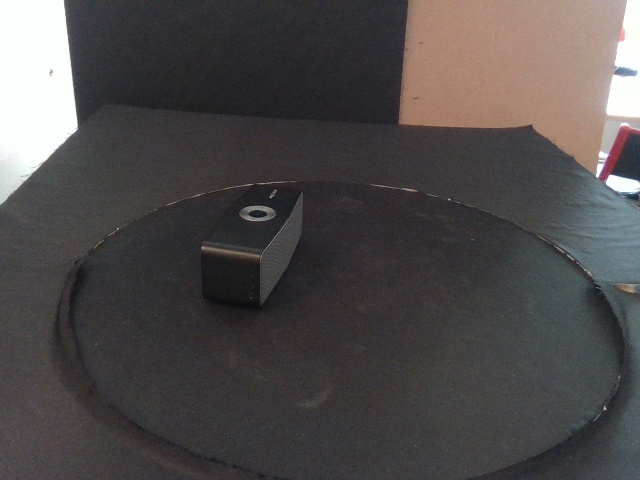speaker: (199, 183, 303, 307)
